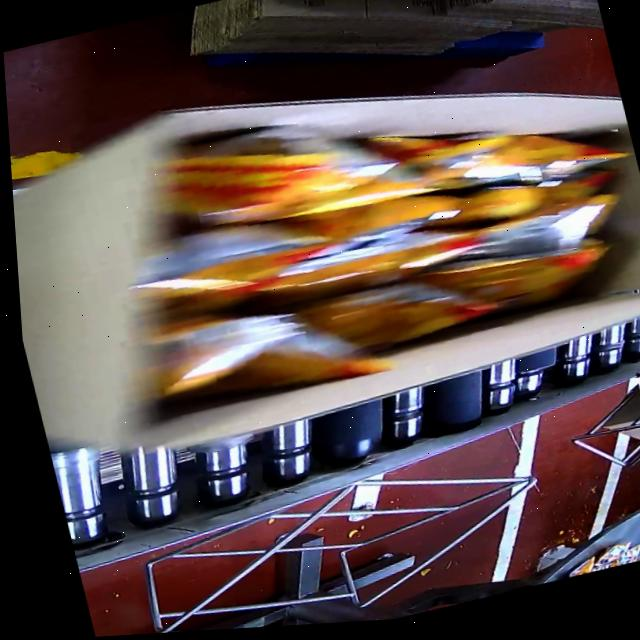FRENCH_CHEESE: (109, 82, 640, 413)
